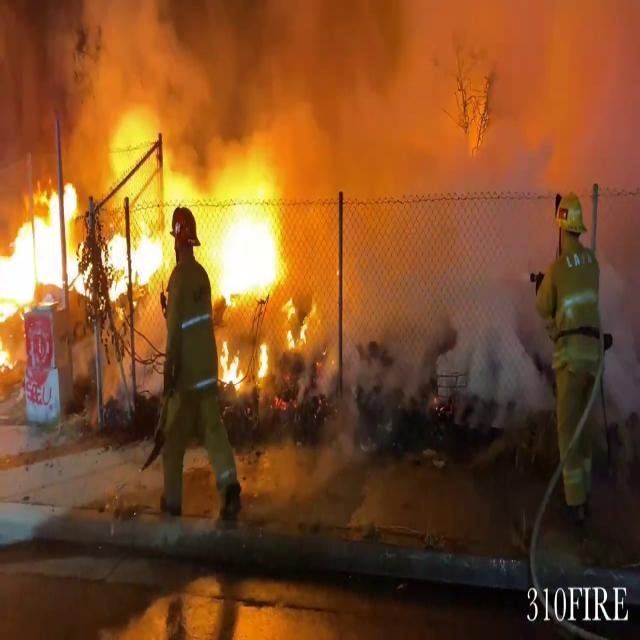Fire: (0, 174, 164, 320), (185, 160, 304, 314), (0, 323, 14, 377)
Smoke: (276, 1, 638, 408), (0, 0, 325, 216)
